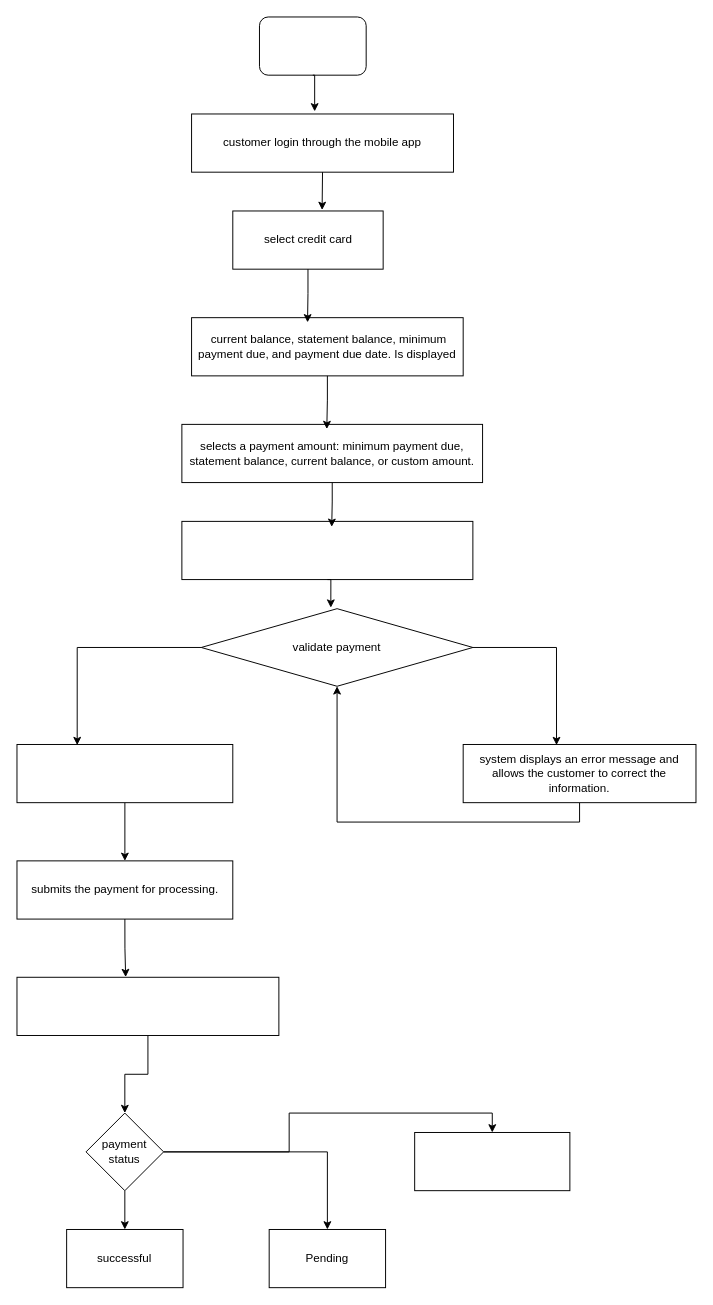
The diagram is 713 pixels wide and 1305 high, and some of its shapes have lost their labels. The box of each missing label's shape, as (x1, y1, x2, y2) in pixels:
customer reviews the payment details and confirms the payment.: (16, 744, 233, 803)
fail , insufficient funds,: (414, 1132, 570, 1191)
selects a funding account checking/saving account: (181, 520, 473, 580)
Start: (259, 16, 366, 75)
system notifies the customer: (16, 976, 279, 1035)
